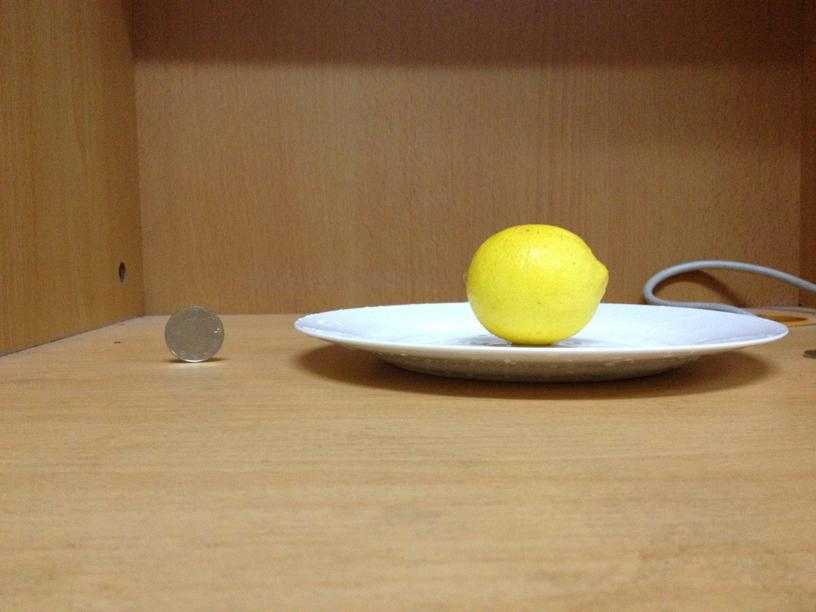coin: (163, 305, 223, 362)
lemon: (466, 223, 608, 343)
